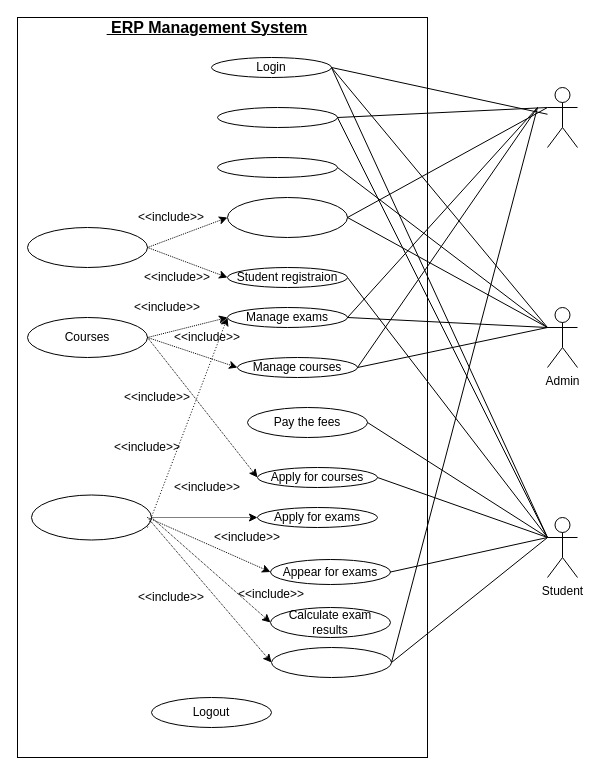
This 600x775 diagram has some shape labels left out. Each missing label, with the centre of its shape:
"Exams" goes at [91,517].
"Faculty" goes at [562,117].
"Manage Faculty" goes at [277,167].
"Manage student information" goes at [287,217].
"Student Info" goes at [87,247].
"User Profile" goes at [277,117].
"View the exam result" goes at [331,662].
